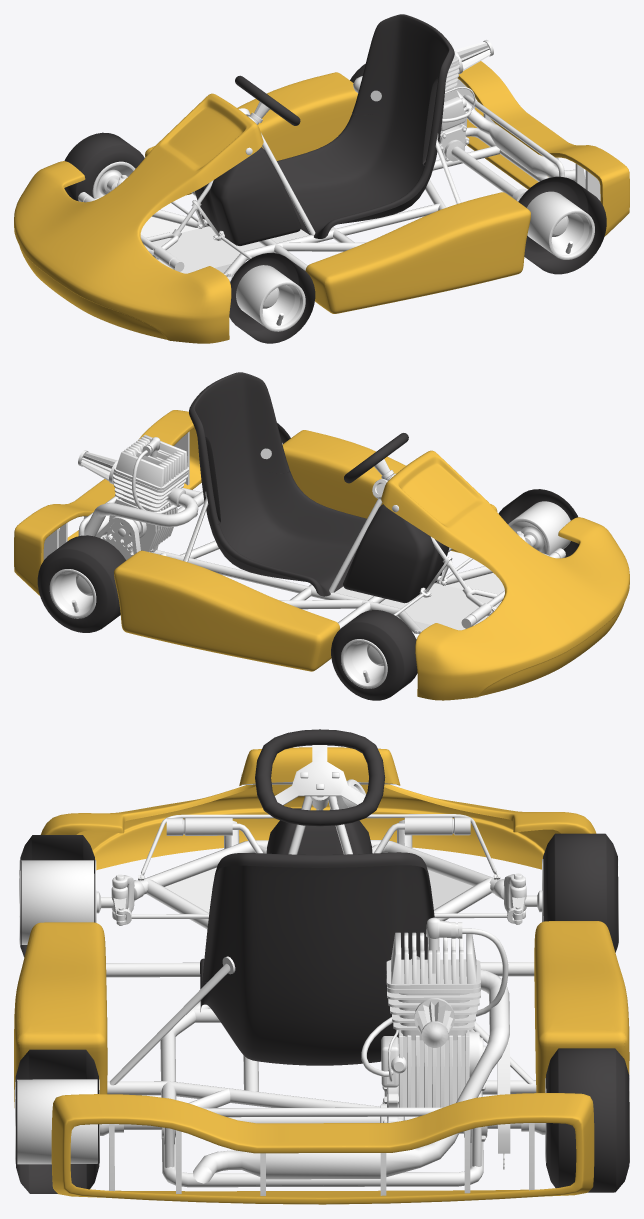
Rendered from yellowCar.fbx.
3 views of the same model, one above another, from view 1: azimuth 30°, elevation 25°; view 2: azimuth 150°, elevation 25°; view 3: azimuth 270°, elevation 25° (orthographic). The views are drawn at different scales.
Visible parts, largest first — view 1: Obj3d66-1710198-84-265, Obj3d66-1710198-150-841, Obj3d66-1710198-82-629, Obj3d66-1710198-144-633, Obj3d66-1710198-85-512, Obj3d66-1710198-126-675, Obj3d66-1710198-135-694, Obj3d66-1710198-142-933, Obj3d66-1710198-86-555, Obj3d66-1710198-95-092, Obj3d66-1710198-87-798, Obj3d66-1710198-83-600 (+8 smaller); view 2: Obj3d66-1710198-84-265, Obj3d66-1710198-150-841, Obj3d66-1710198-82-629, Obj3d66-1710198-85-512, Obj3d66-1710198-144-633, Obj3d66-1710198-120-562, Obj3d66-1710198-87-798, Obj3d66-1710198-142-933, Obj3d66-1710198-94-264, Obj3d66-1710198-135-694, Obj3d66-1710198-83-600, Obj3d66-1710198-127-543 (+9 smaller); view 3: Obj3d66-1710198-150-841, Obj3d66-1710198-82-629, Obj3d66-1710198-144-633, Obj3d66-1710198-84-265, Obj3d66-1710198-120-562, Obj3d66-1710198-83-600, Obj3d66-1710198-87-798, Obj3d66-1710198-117-455, Obj3d66-1710198-149-537, Obj3d66-1710198-135-694, Obj3d66-1710198-126-675, Obj3d66-1710198-86-555 (+18 smaller).
Boxes of the visible parts, bbox=[...] form: Obj3d66-1710198-84-265: bbox=[14, 93, 263, 343]; Obj3d66-1710198-150-841: bbox=[145, 61, 629, 313]; Obj3d66-1710198-82-629: bbox=[277, 14, 454, 238]; Obj3d66-1710198-144-633: bbox=[117, 95, 564, 282]; Obj3d66-1710198-85-512: bbox=[195, 147, 301, 245]; Obj3d66-1710198-126-675: bbox=[527, 191, 594, 259]; Obj3d66-1710198-135-694: bbox=[236, 265, 305, 331]; Obj3d66-1710198-142-933: bbox=[140, 216, 309, 273]; Obj3d66-1710198-86-555: bbox=[518, 176, 606, 274]; Obj3d66-1710198-95-092: bbox=[229, 253, 315, 343]; Obj3d66-1710198-87-798: bbox=[64, 132, 144, 201]; Obj3d66-1710198-83-600: bbox=[353, 76, 575, 181]; Obj3d66-1710198-84-265: bbox=[381, 450, 629, 700]; Obj3d66-1710198-150-841: bbox=[14, 410, 497, 671]; Obj3d66-1710198-82-629: bbox=[189, 372, 366, 596]; Obj3d66-1710198-85-512: bbox=[343, 504, 449, 603]; Obj3d66-1710198-144-633: bbox=[78, 459, 525, 639]; Obj3d66-1710198-120-562: bbox=[37, 535, 125, 632]; Obj3d66-1710198-87-798: bbox=[331, 610, 417, 700]; Obj3d66-1710198-142-933: bbox=[334, 573, 504, 630]; Obj3d66-1710198-94-264: bbox=[114, 434, 188, 490]; Obj3d66-1710198-135-694: bbox=[508, 501, 570, 555]; Obj3d66-1710198-83-600: bbox=[84, 493, 198, 536]; Obj3d66-1710198-127-543: bbox=[49, 569, 96, 618]; Obj3d66-1710198-150-841: bbox=[14, 921, 629, 1204]; Obj3d66-1710198-82-629: bbox=[200, 852, 434, 1065]; Obj3d66-1710198-144-633: bbox=[106, 796, 536, 1187]; Obj3d66-1710198-84-265: bbox=[40, 747, 596, 870]; Obj3d66-1710198-120-562: bbox=[546, 1048, 629, 1192]; Obj3d66-1710198-83-600: bbox=[193, 969, 509, 1183]; Obj3d66-1710198-87-798: bbox=[543, 833, 618, 952]; Obj3d66-1710198-117-455: bbox=[381, 1030, 469, 1107]; Obj3d66-1710198-149-537: bbox=[255, 729, 385, 826]; Obj3d66-1710198-135-694: bbox=[19, 860, 96, 944]; Obj3d66-1710198-126-675: bbox=[15, 1079, 99, 1164]; Obj3d66-1710198-86-555: bbox=[15, 1049, 99, 1193].
Size of the model in its own units: 1212 by 438 by 818.
